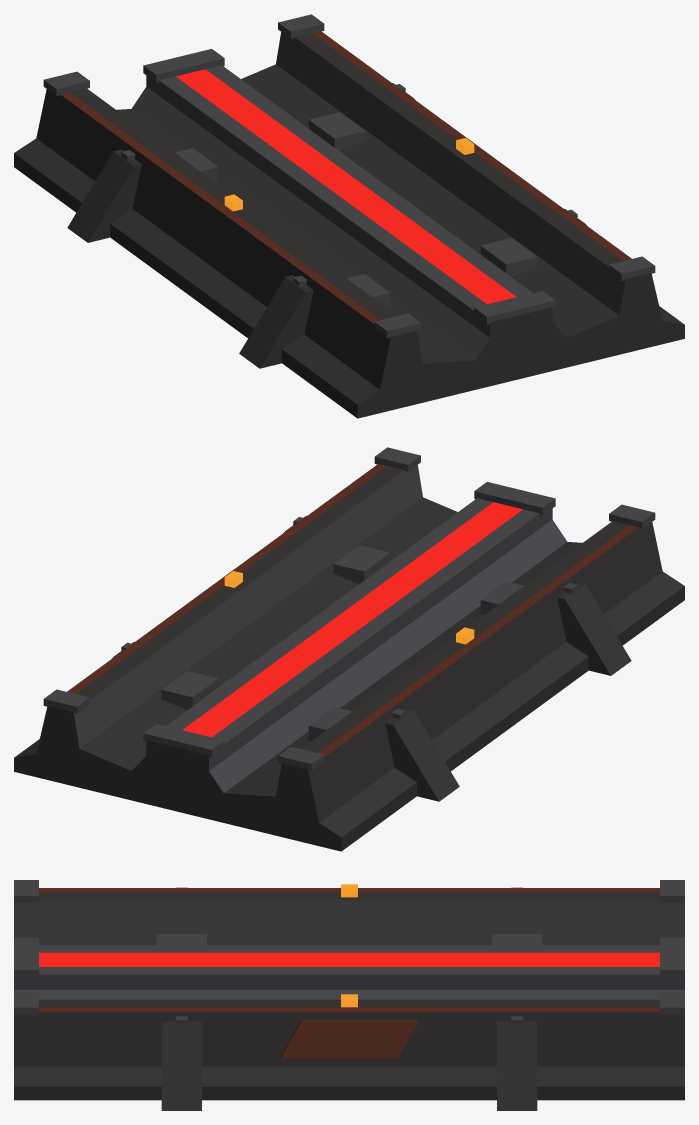
File: maglev_track_straight.glb
The picture shows the model from 3 angles, top to bottom: view 1: azimuth 30°, elevation 25°; view 2: azimuth 150°, elevation 25°; view 3: azimuth 270°, elevation 25°; orthographic projection. The views are drawn at different scales.
Visible parts, largest first — view 1: track_straight; view 2: track_straight; view 3: track_straight.
Part boxes in pixels (<box>): track_straight: <box>14,14,684,418</box>; track_straight: <box>14,447,684,851</box>; track_straight: <box>14,880,684,1110</box>.
Size of the model in its own units: 5 by 1.06 by 8.
